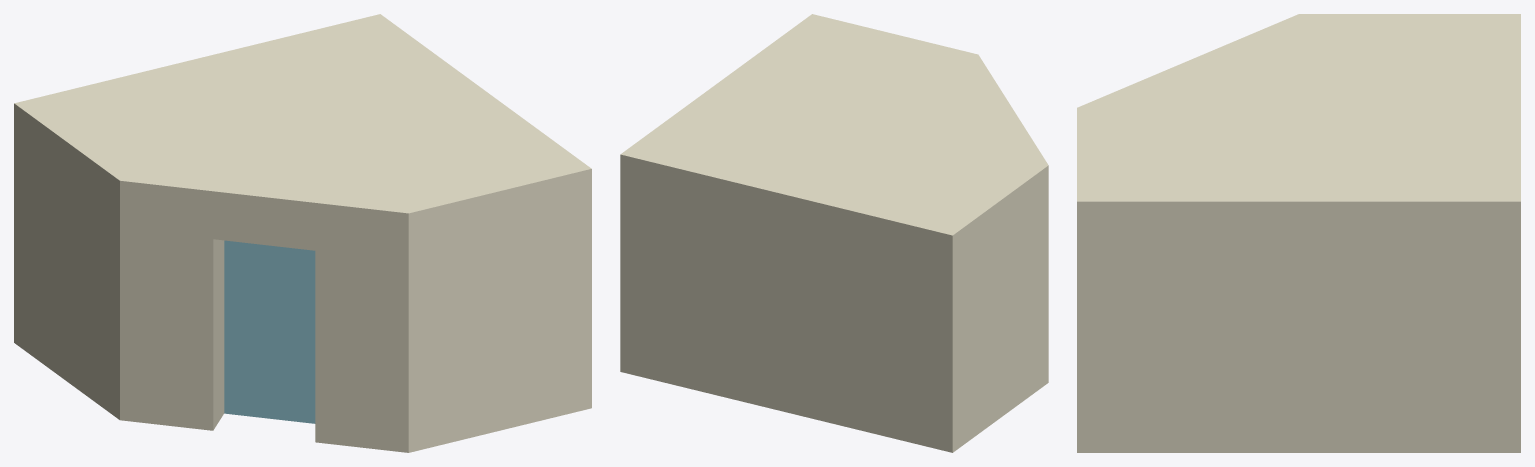
File: modularBuildings_059.fbx
The picture shows the model from 3 angles, left to right: view 1: azimuth 30°, elevation 25°; view 2: azimuth 150°, elevation 25°; view 3: azimuth 270°, elevation 25°; orthographic projection. The views are drawn at different scales.
Visible parts, largest first — view 1: Brick.Mesh1 Group1 Model, Glass; view 2: Brick.Mesh1 Group1 Model; view 3: Brick.Mesh1 Group1 Model.
Boxes of the visible parts, x1,y1,x2,y2 form: Brick.Mesh1 Group1 Model: (14,14,591,452); Glass: (224,240,315,423); Brick.Mesh1 Group1 Model: (620,14,1048,452); Brick.Mesh1 Group1 Model: (1077,14,1520,452).
Size of the model in its own units: 1 by 0.625 by 1.
